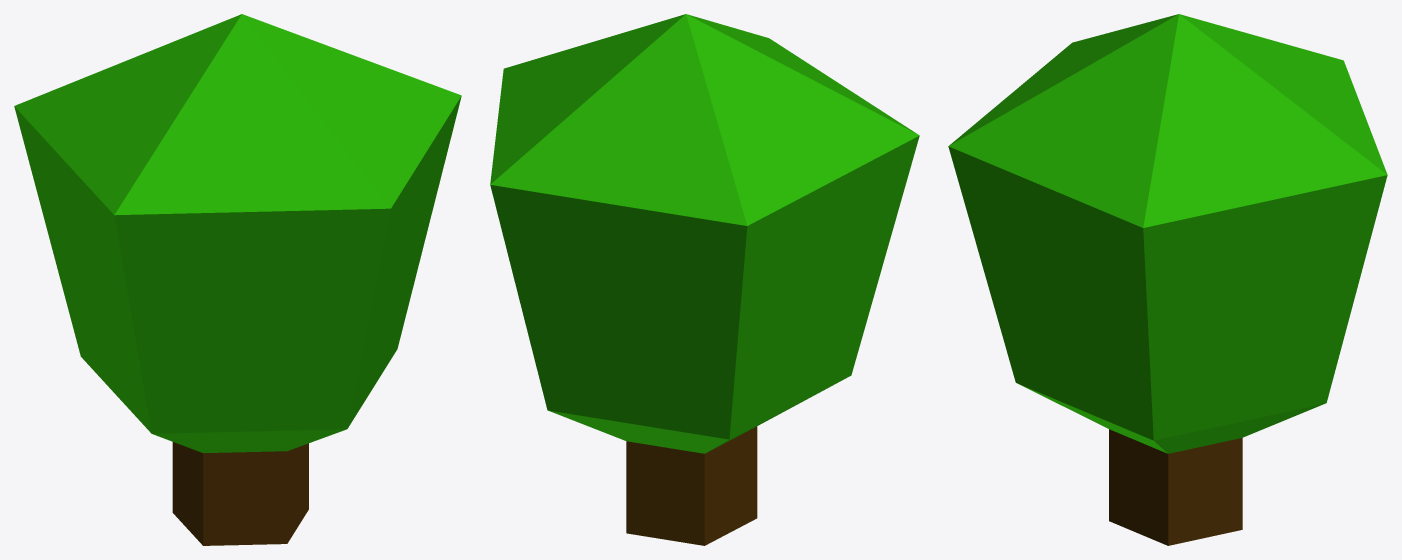
File: Bush_3.fbx
The picture shows the model from 3 angles, left to right: view 1: azimuth 30°, elevation 25°; view 2: azimuth 150°, elevation 25°; view 3: azimuth 270°, elevation 25°; orthographic projection.
Parts seen in each view (by area): view 1: Bush_3; view 2: Bush_3; view 3: Bush_3.
Part boxes in pixels (left/top/right/bottom): Bush_3: left=14, top=14, right=461, bottom=545; Bush_3: left=490, top=14, right=919, bottom=545; Bush_3: left=948, top=14, right=1387, bottom=545.
Bounding box in the file's own units: 114 × 144 × 114.
